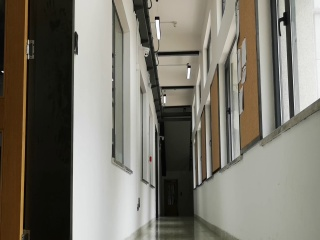room: (2, 2, 76, 239)
